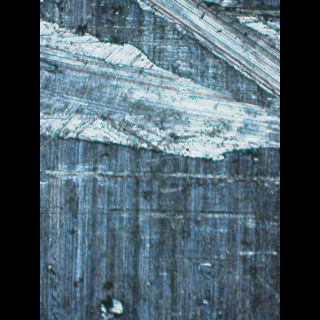d: (40, 0, 278, 168), (94, 282, 128, 319)
